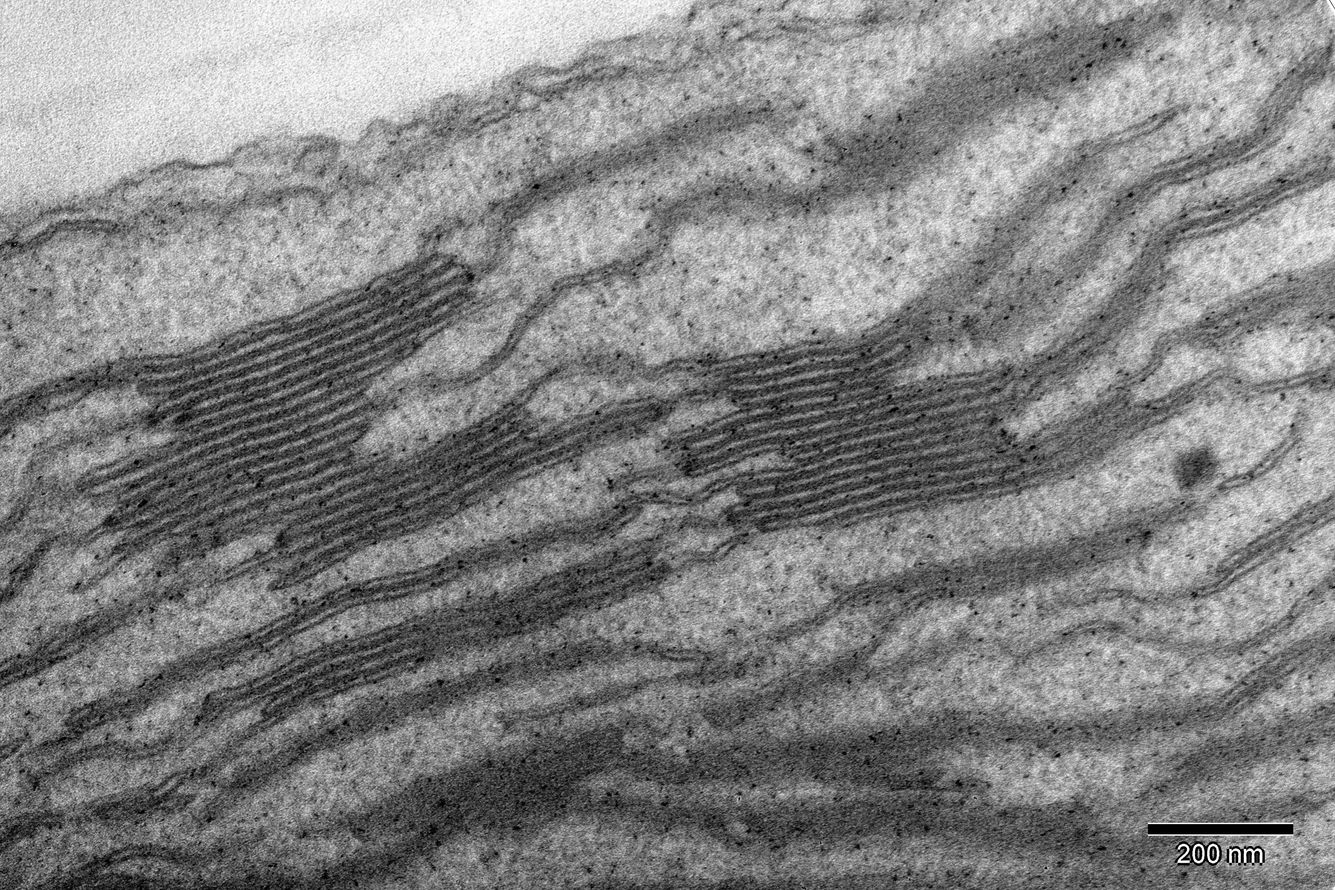granum: (105, 238, 674, 592), (658, 245, 1181, 538), (259, 532, 669, 722), (809, 9, 1130, 208), (865, 500, 1167, 638), (343, 714, 630, 849), (695, 785, 1128, 865), (626, 702, 976, 793), (1196, 248, 1333, 354)
